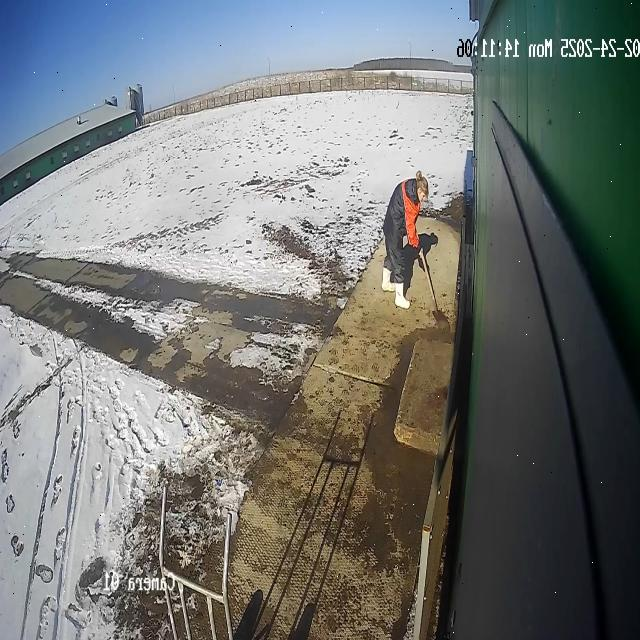Red uniform: (381, 170, 436, 312)
